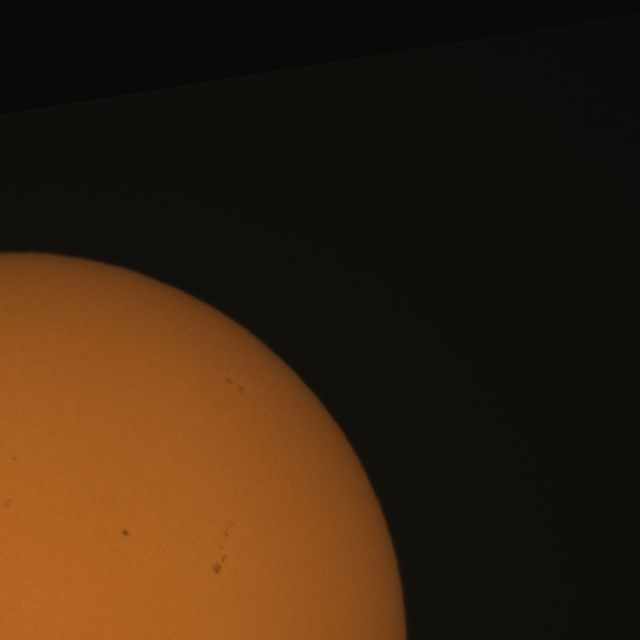sunspot: (210, 548, 228, 576), (224, 374, 245, 396), (2, 498, 13, 509), (120, 528, 131, 539), (225, 374, 234, 386), (223, 526, 231, 538), (10, 455, 17, 462)
